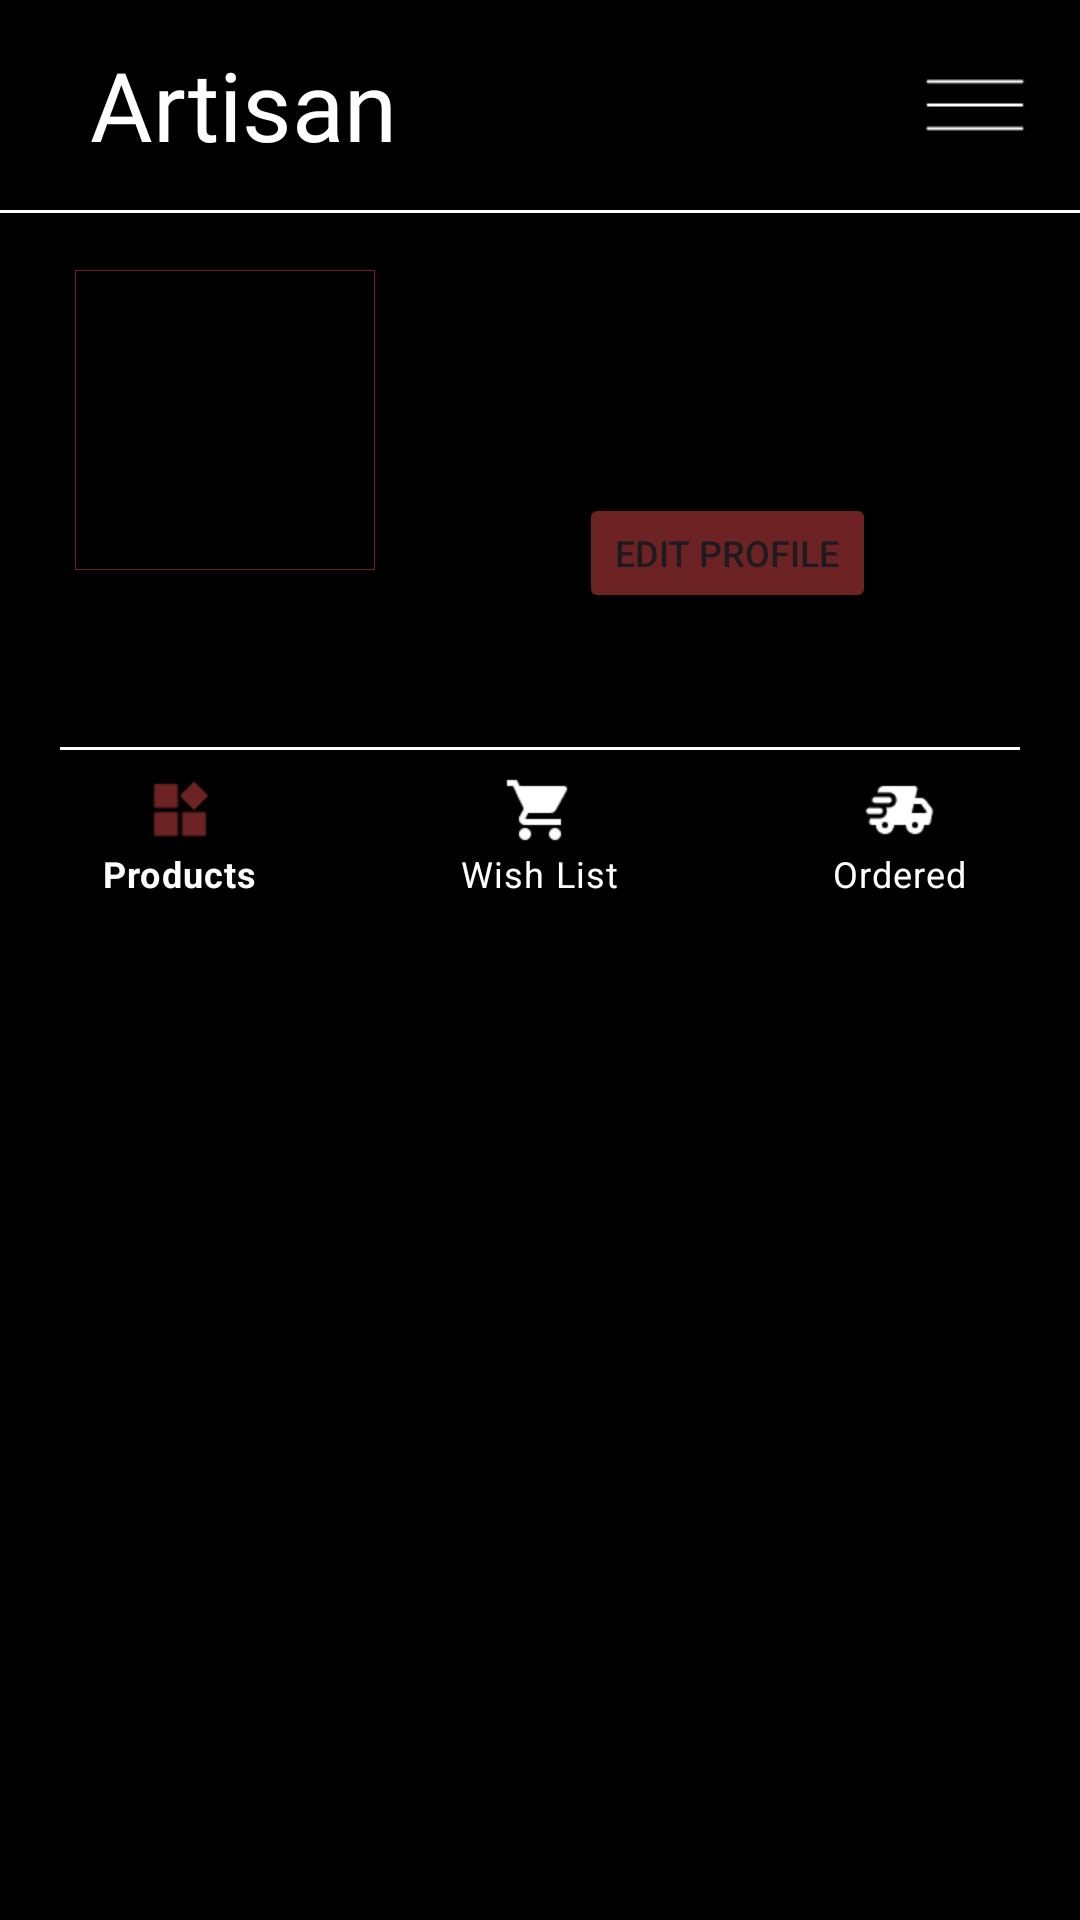

Icon bounding boxes for this 1080 × 1920 phone screenshot, format (left=x1, top=y1, right=x2, bottom=y2):
threeline: (left=925, top=79, right=1025, bottom=131)
